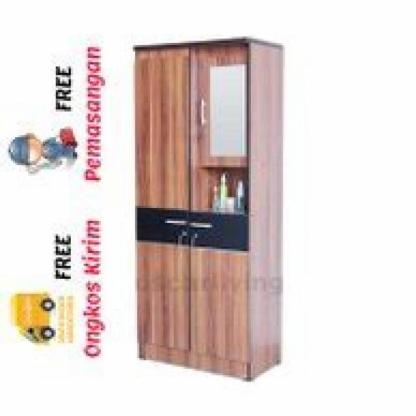Closet: (127, 34, 294, 387)
